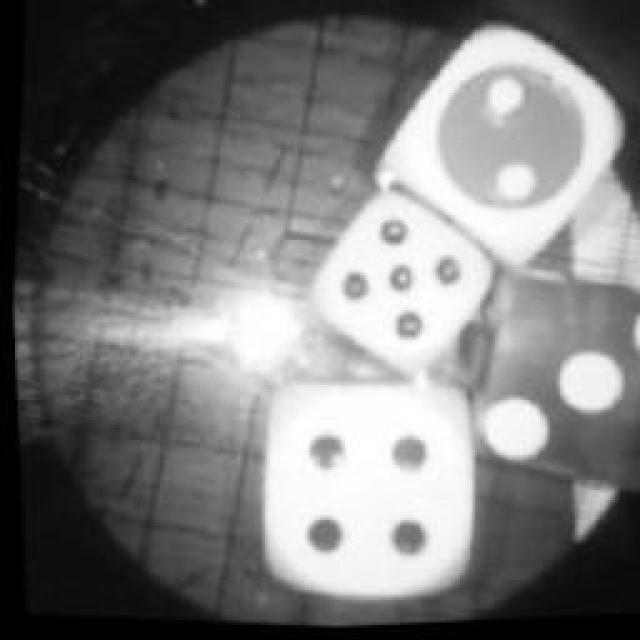dice_2: (357, 4, 640, 287), (291, 175, 504, 390)
dice_3: (462, 256, 640, 509)
dice_4: (232, 357, 496, 625)
